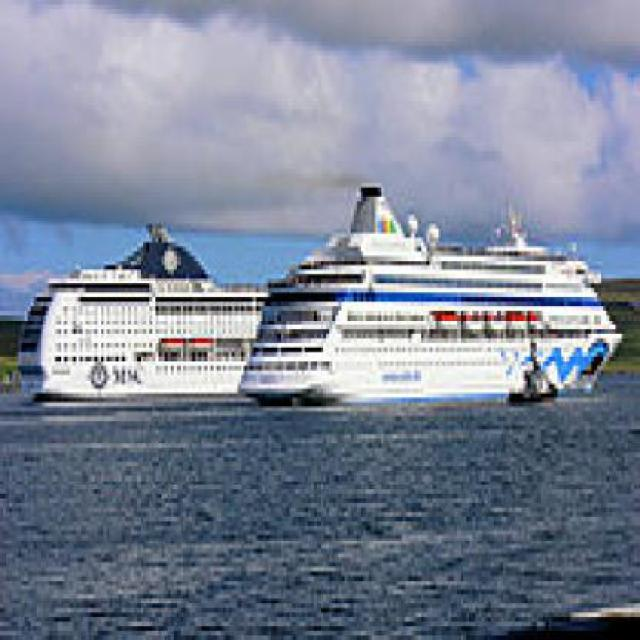cruise: (233, 151, 630, 413), (7, 239, 276, 413)
